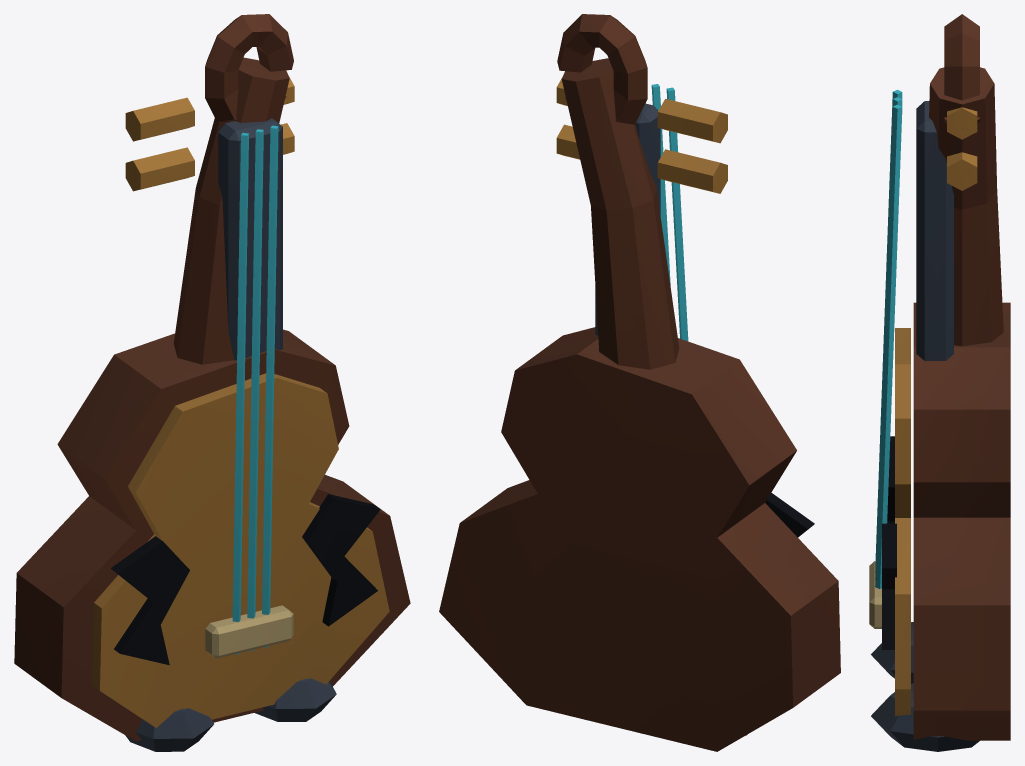
The model's file is hollow_violin.fbx.
The picture shows the model from 3 angles, left to right: view 1: azimuth 30°, elevation 25°; view 2: azimuth 150°, elevation 25°; view 3: azimuth 270°, elevation 25°; orthographic projection. The views are drawn at different scales.
Parts seen in each view (by area): view 1: hollow_violin; view 2: hollow_violin; view 3: hollow_violin.
Boxes of the visible parts, x1=… form: hollow_violin: x1=14, y1=14, x2=410, y2=751; hollow_violin: x1=439, y1=14, x2=840, y2=751; hollow_violin: x1=869, y1=14, x2=1010, y2=751.
Size of the model in its own units: 1.54 by 2.94 by 0.525.
